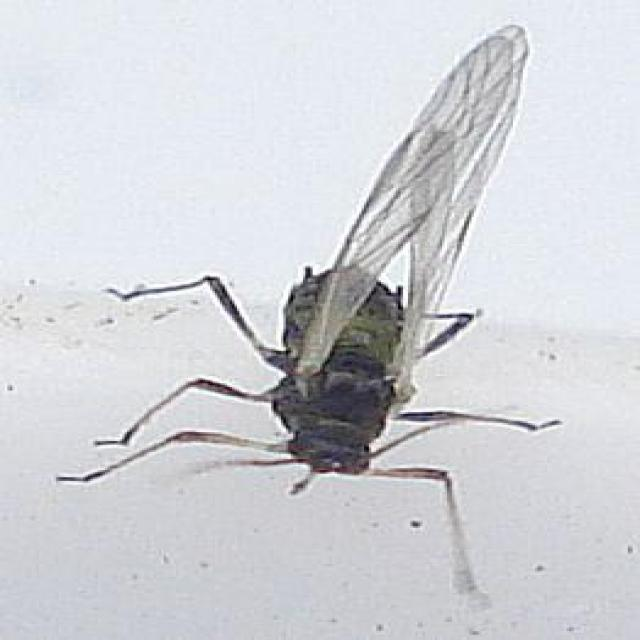Aphids: (104, 39, 563, 612)
